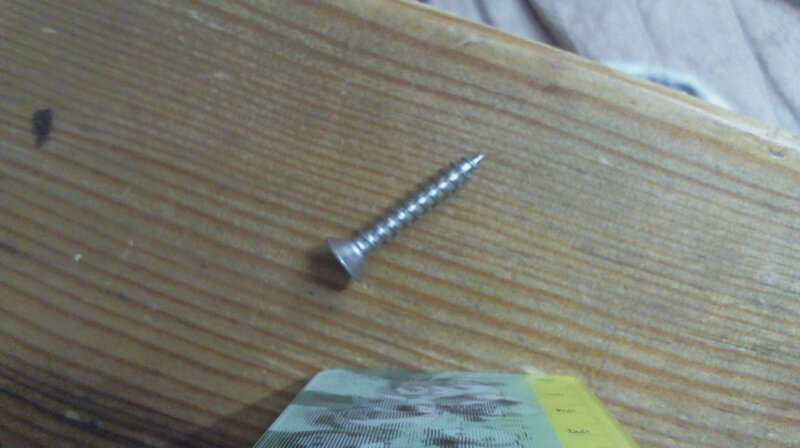S001: (318, 147, 488, 285)
